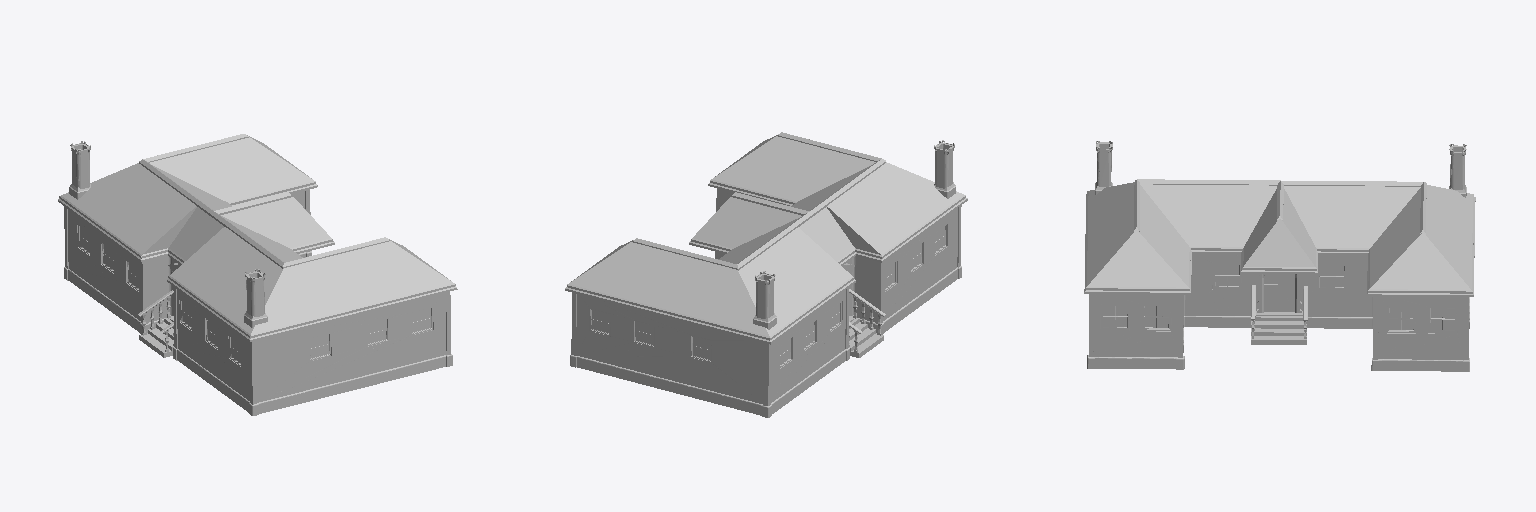
The model's file is house3blender.obj.
The picture shows the model from 3 angles: view 1: azimuth 30°, elevation 25°; view 2: azimuth 150°, elevation 25°; view 3: azimuth 270°, elevation 25°; orthographic projection.
Parts seen in each view (by area): view 1: house3; view 2: house3; view 3: house3.
Boxes of the visible parts, x1=… form: house3: x1=58, y1=134, x2=457, y2=415; house3: x1=565, y1=132, x2=967, y2=417; house3: x1=1084, y1=141, x2=1475, y2=371.
Size of the model in its own units: 5.85 by 3.61 by 9.32.